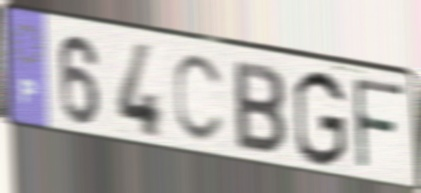4: (114, 40, 167, 141)
6: (57, 33, 101, 128)
B: (232, 57, 289, 160)
C: (171, 53, 227, 147)
F: (350, 74, 407, 176)
G: (291, 67, 349, 171)
